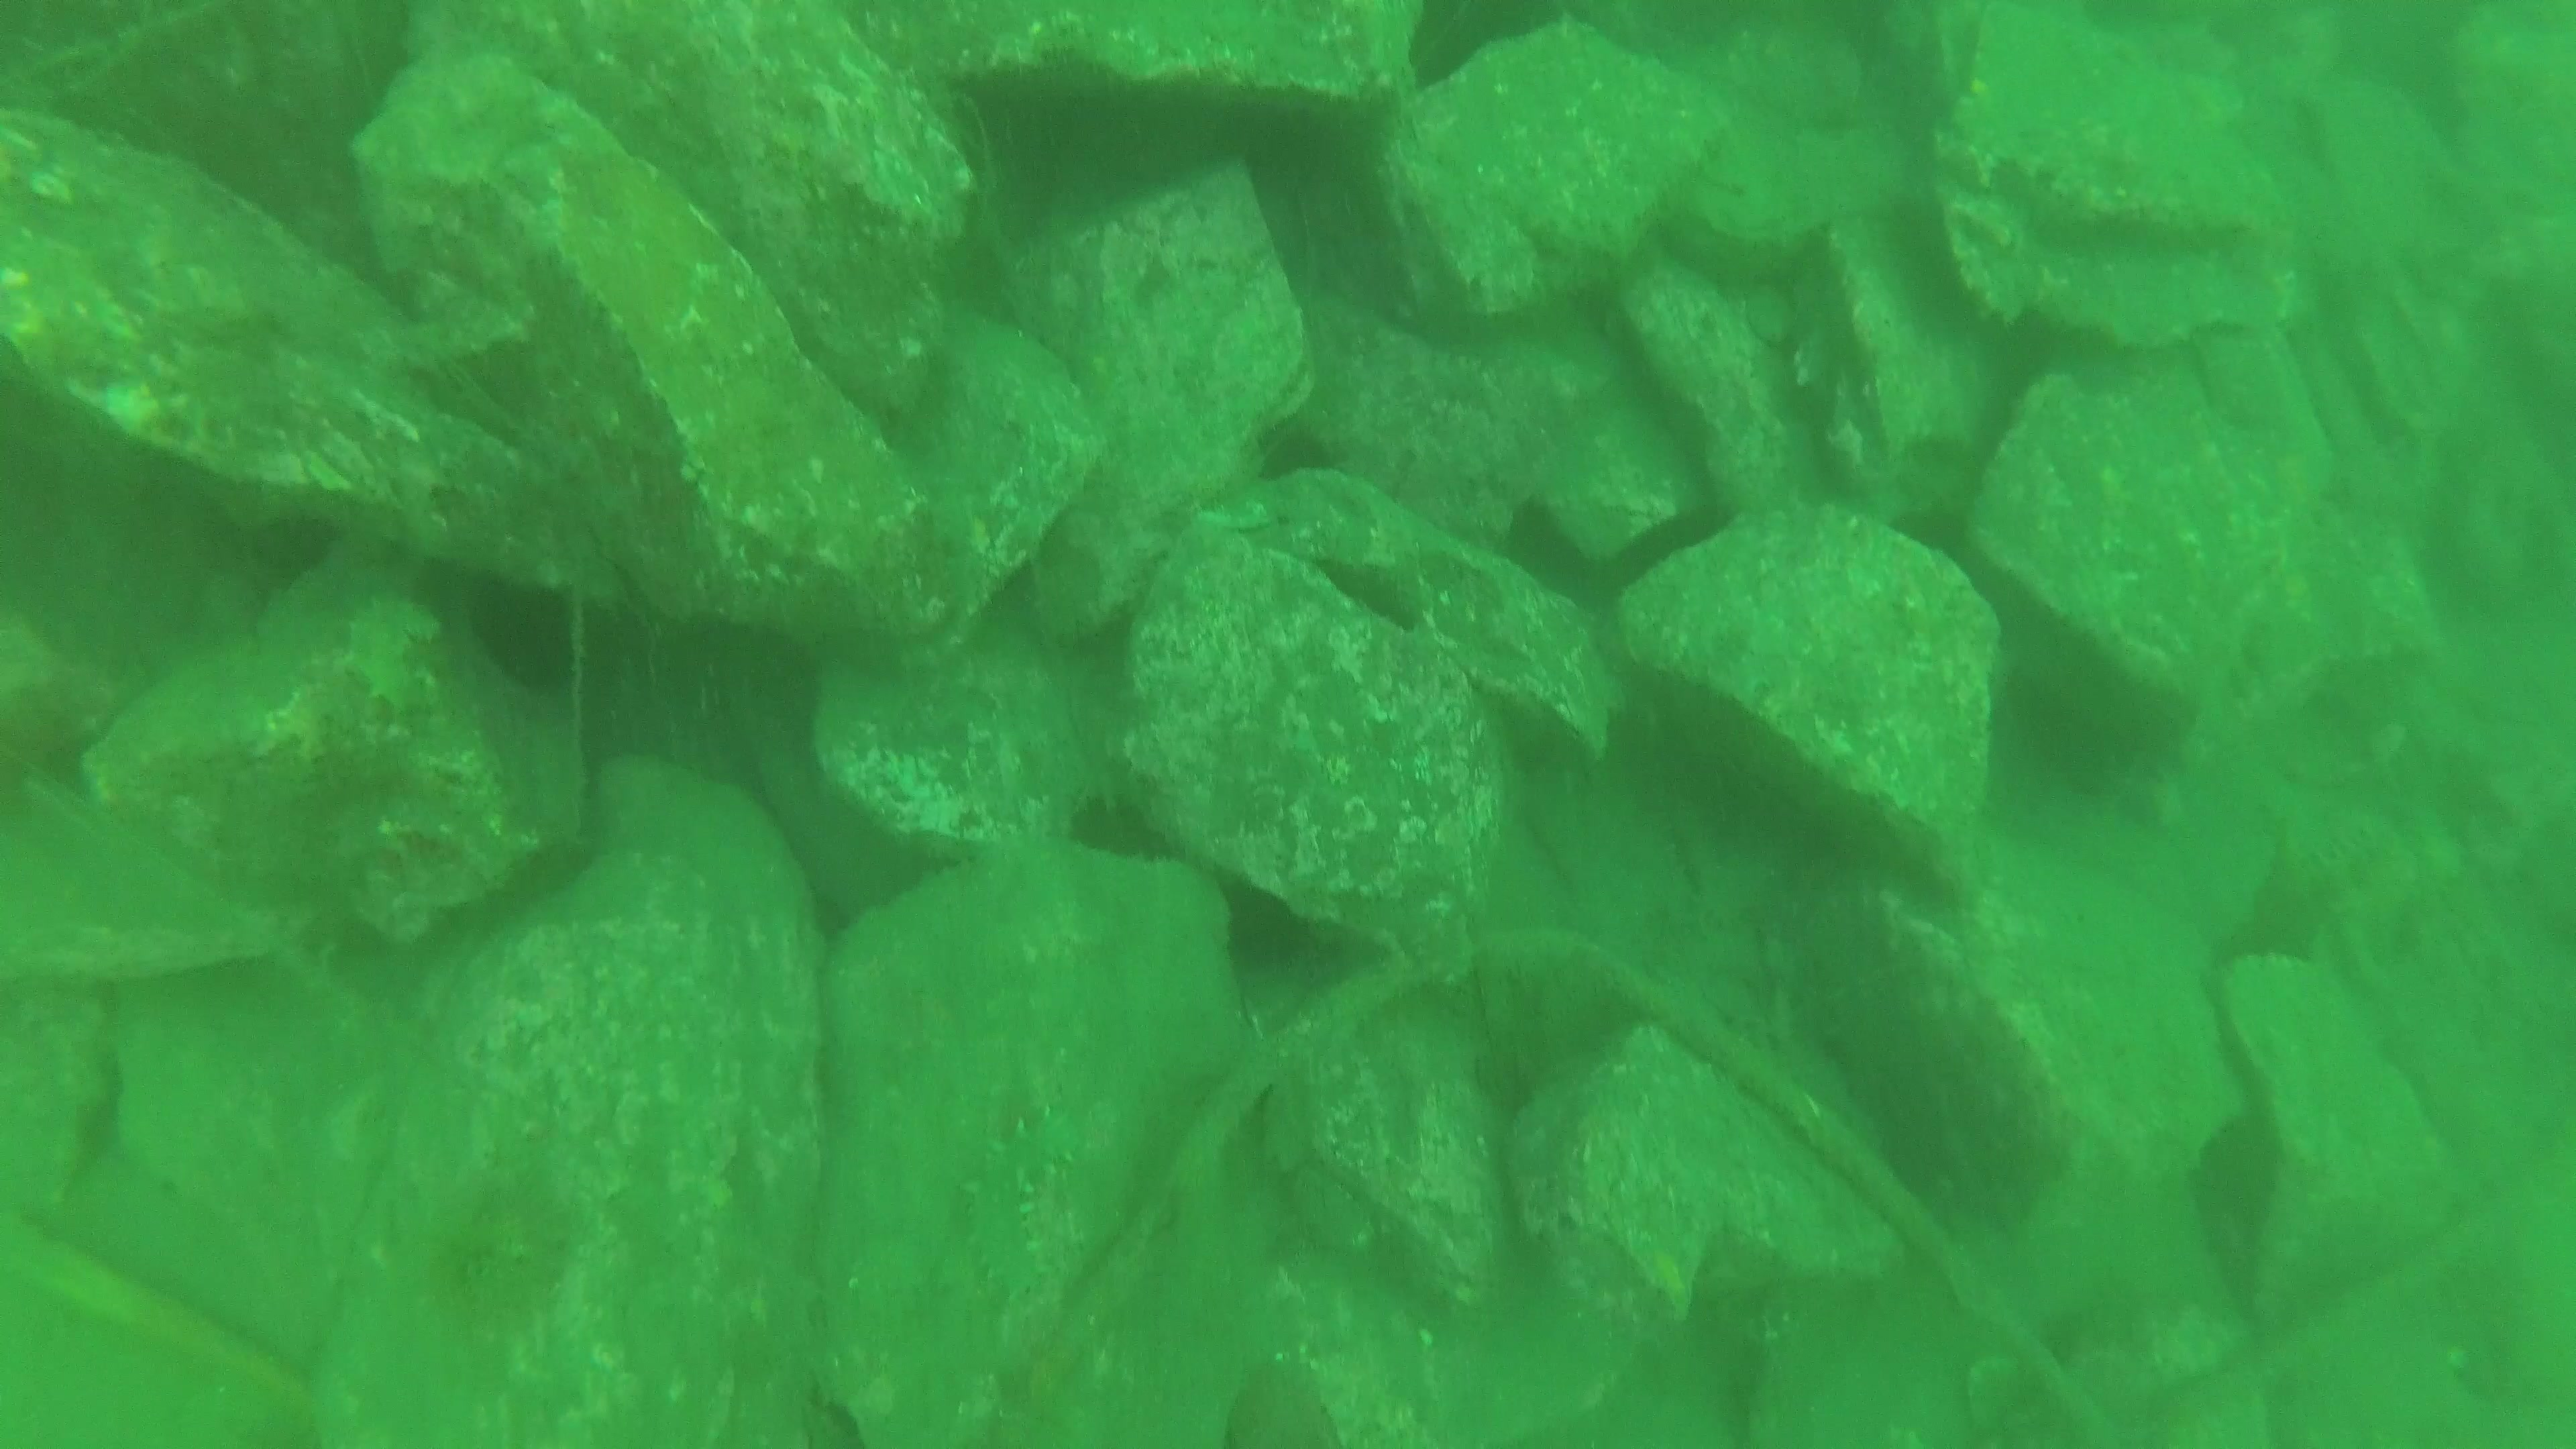echinus: (596, 612, 777, 794)
holothurian: (961, 1102, 1076, 1307), (341, 600, 441, 717)
